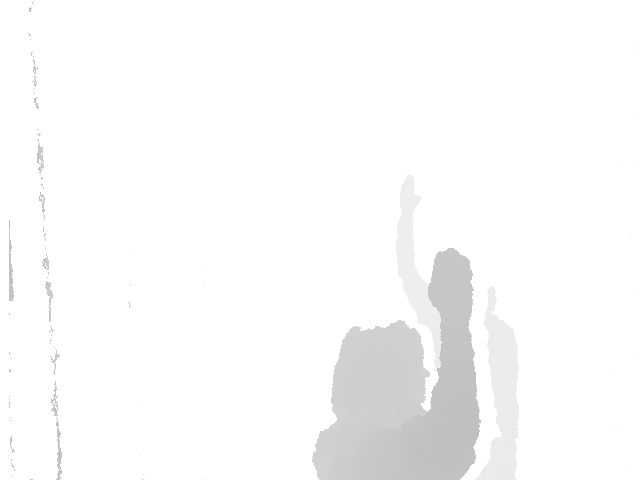hand: (427, 248, 474, 318), (400, 175, 421, 216)
head: (330, 321, 431, 417)
person: (309, 248, 483, 480), (395, 175, 520, 479)
